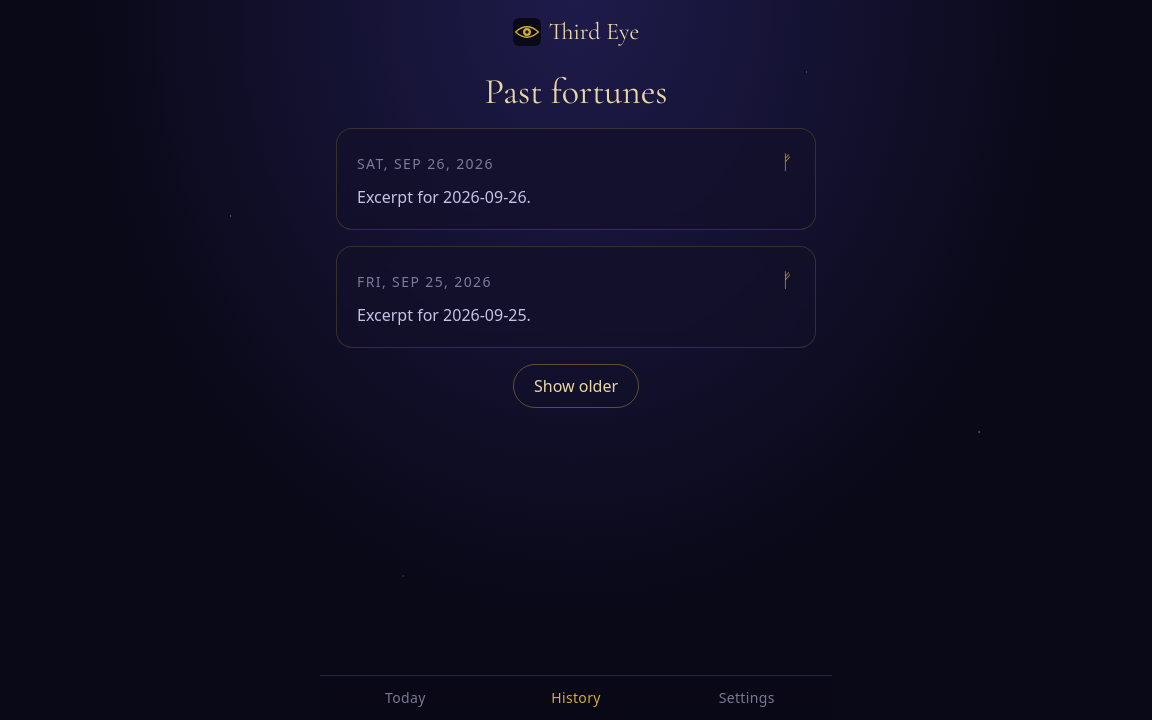
History › lists past fortunes and loads more pages
Expected: the text "Excerpt for 2026-09-26." is shown, [357,186,531,208]
Step 1. Click the button "Show older" → [576, 386], box [513,364,639,408]
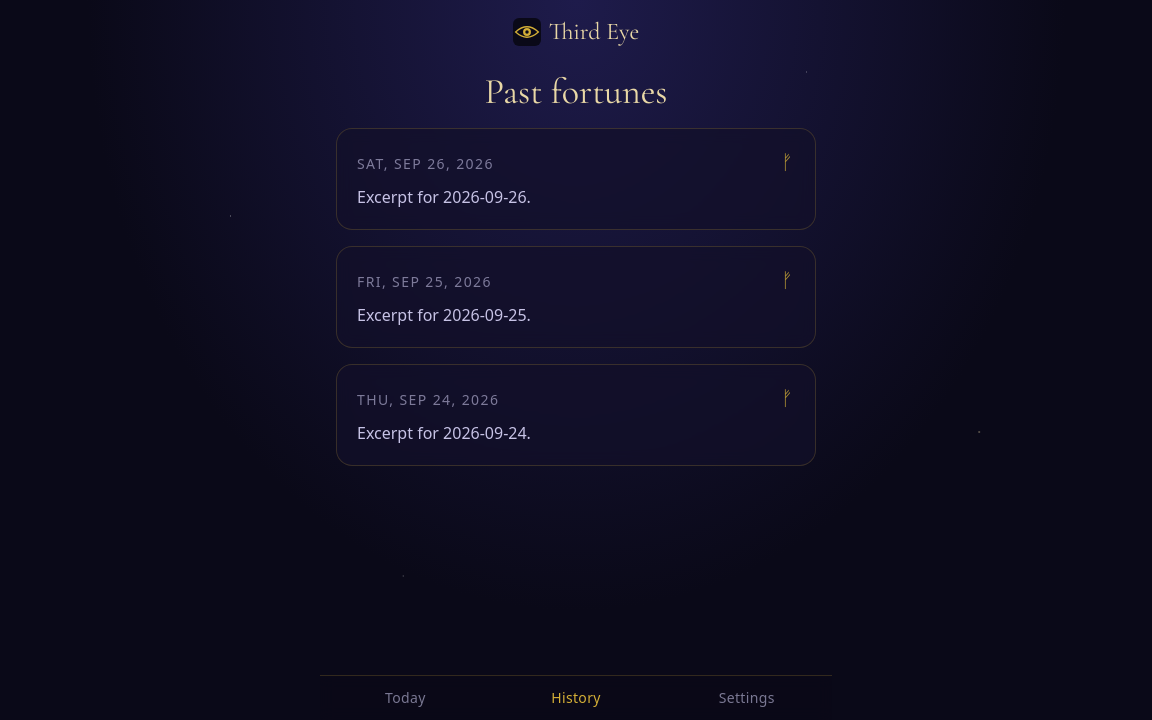
Expected: the text "Excerpt for 2026-09-24." is shown, [357,422,531,444]
Expected: the button "Show older" is gone
